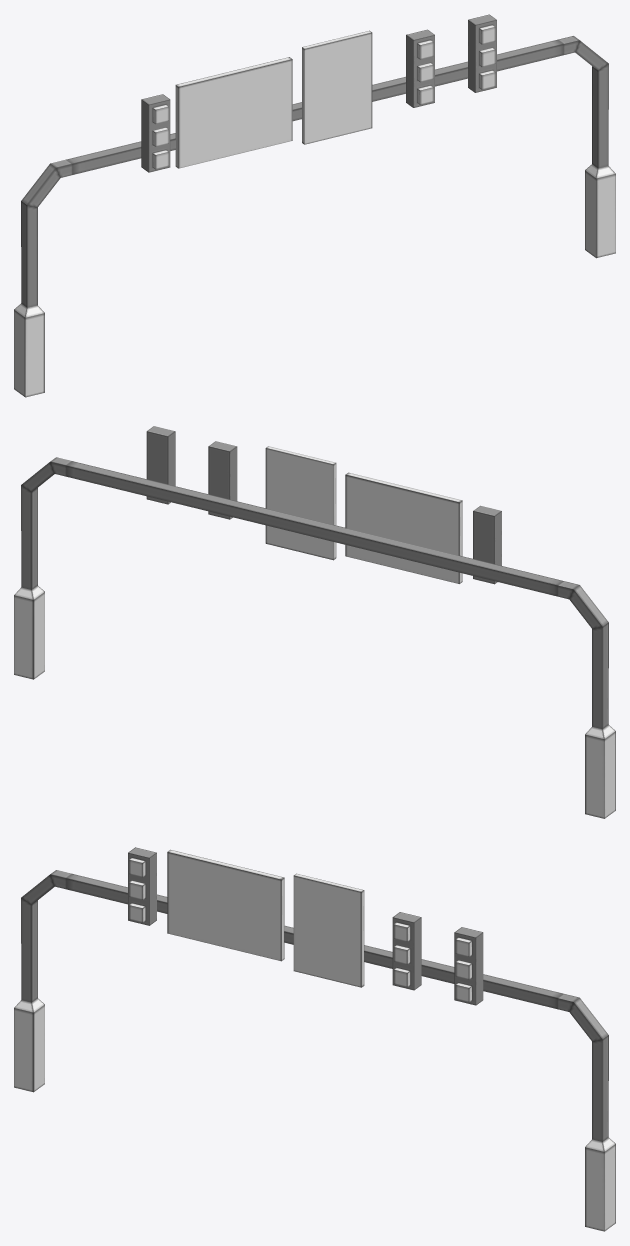
File: Traffic-lights-02.fbx
3 renders of one model, top to bottom at view 1: azimuth 30°, elevation 25°; view 2: azimuth 150°, elevation 25°; view 3: azimuth 330°, elevation 25°, orthographic.
Parts seen in each view (by area): view 1: Traffic_lights_02; view 2: Traffic_lights_02; view 3: Traffic_lights_02.
Boxes of the visible parts, x1=… form: Traffic_lights_02: x1=14, y1=14, x2=615, y2=397; Traffic_lights_02: x1=14, y1=426, x2=615, y2=818; Traffic_lights_02: x1=14, y1=847, x2=615, y2=1231.
Size of the model in its own units: 7.76 by 3.52 by 0.4281.
